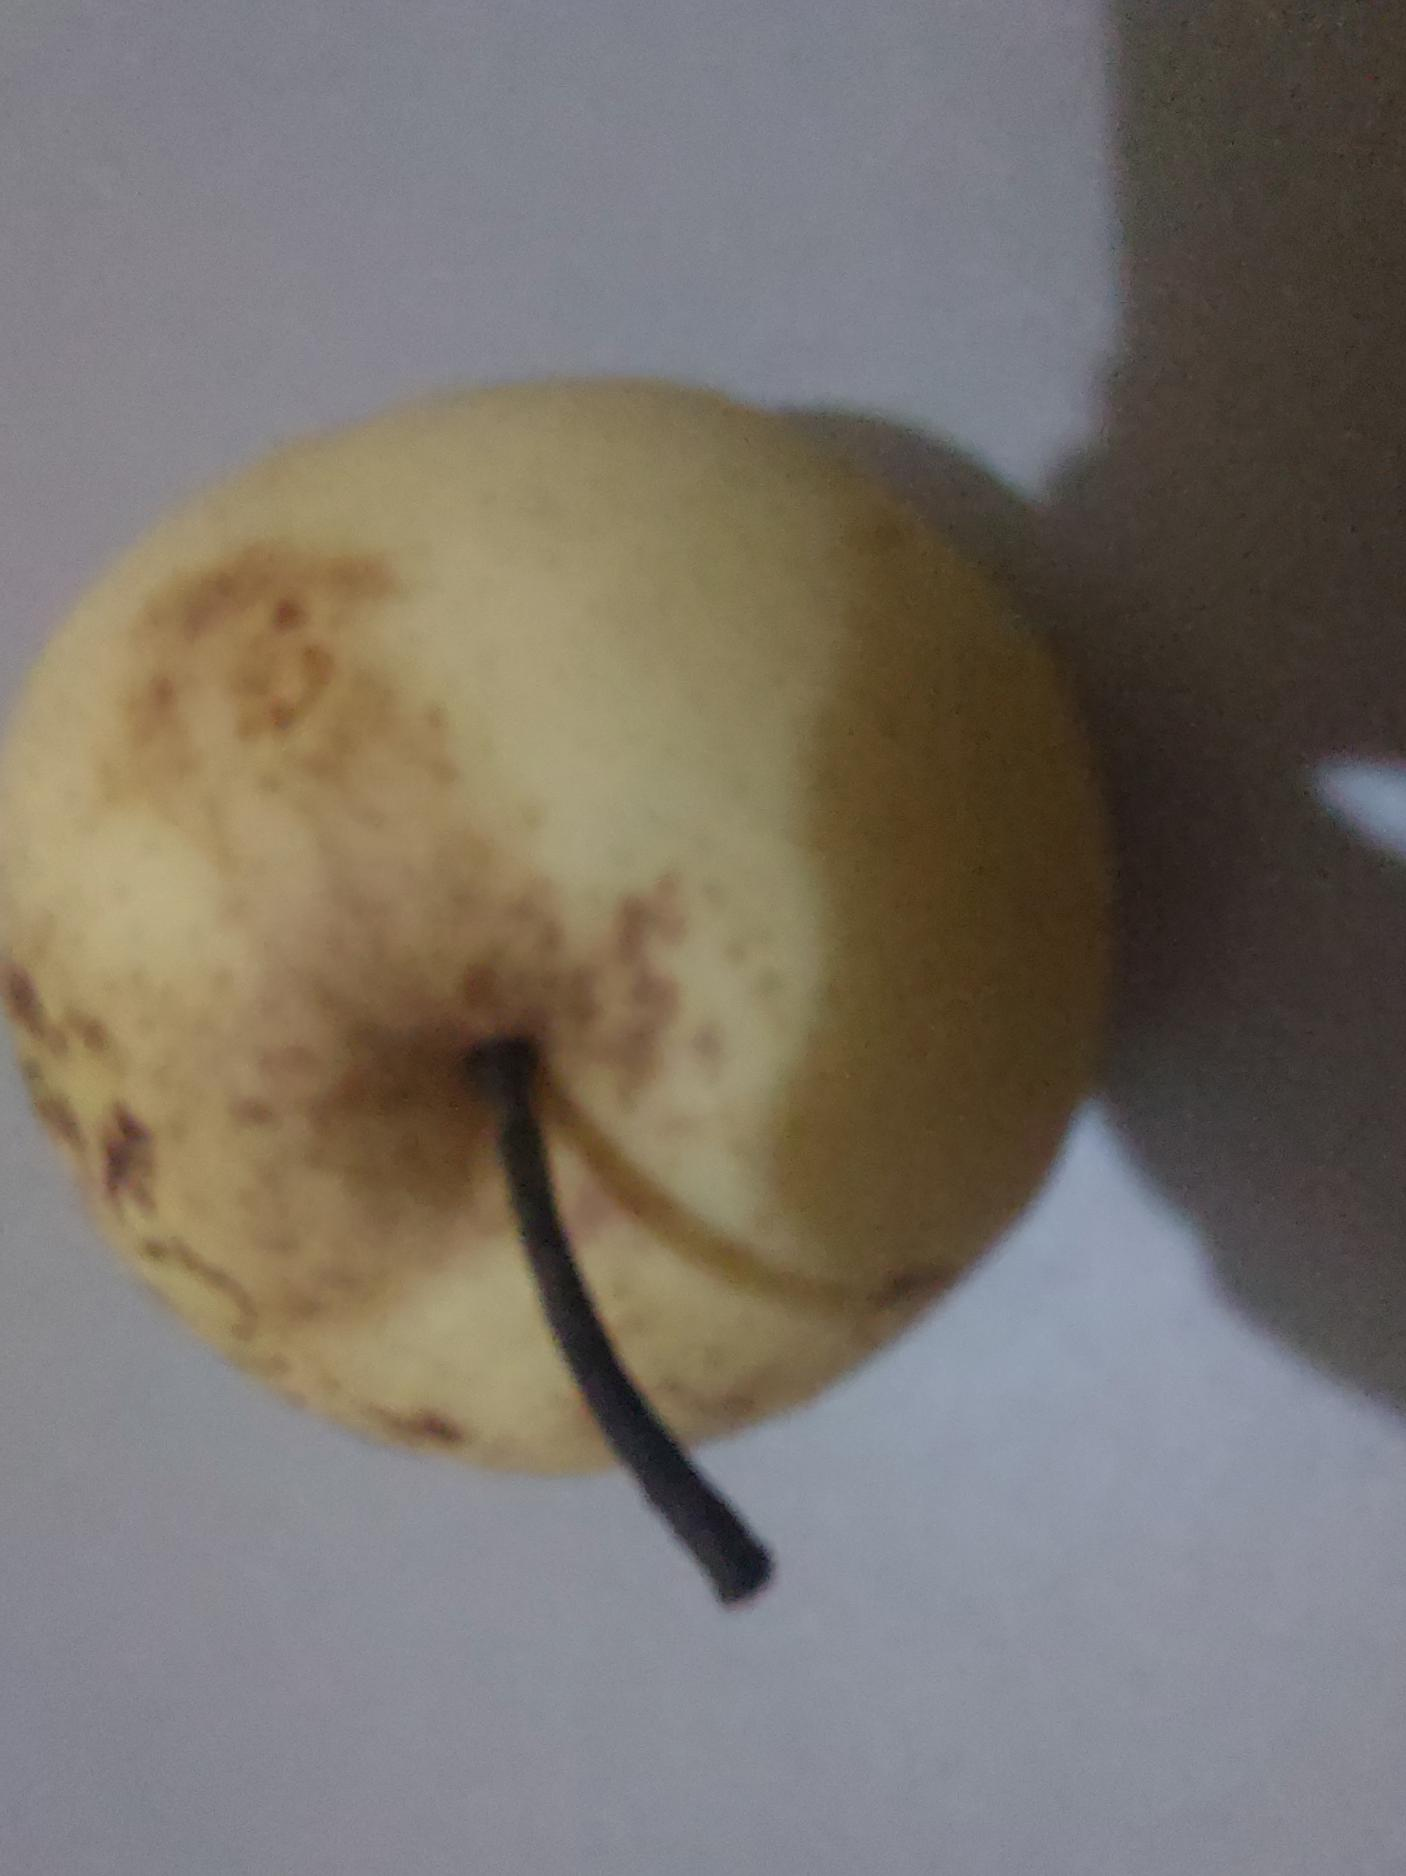Bad Pear: (0, 375, 1063, 1462)
